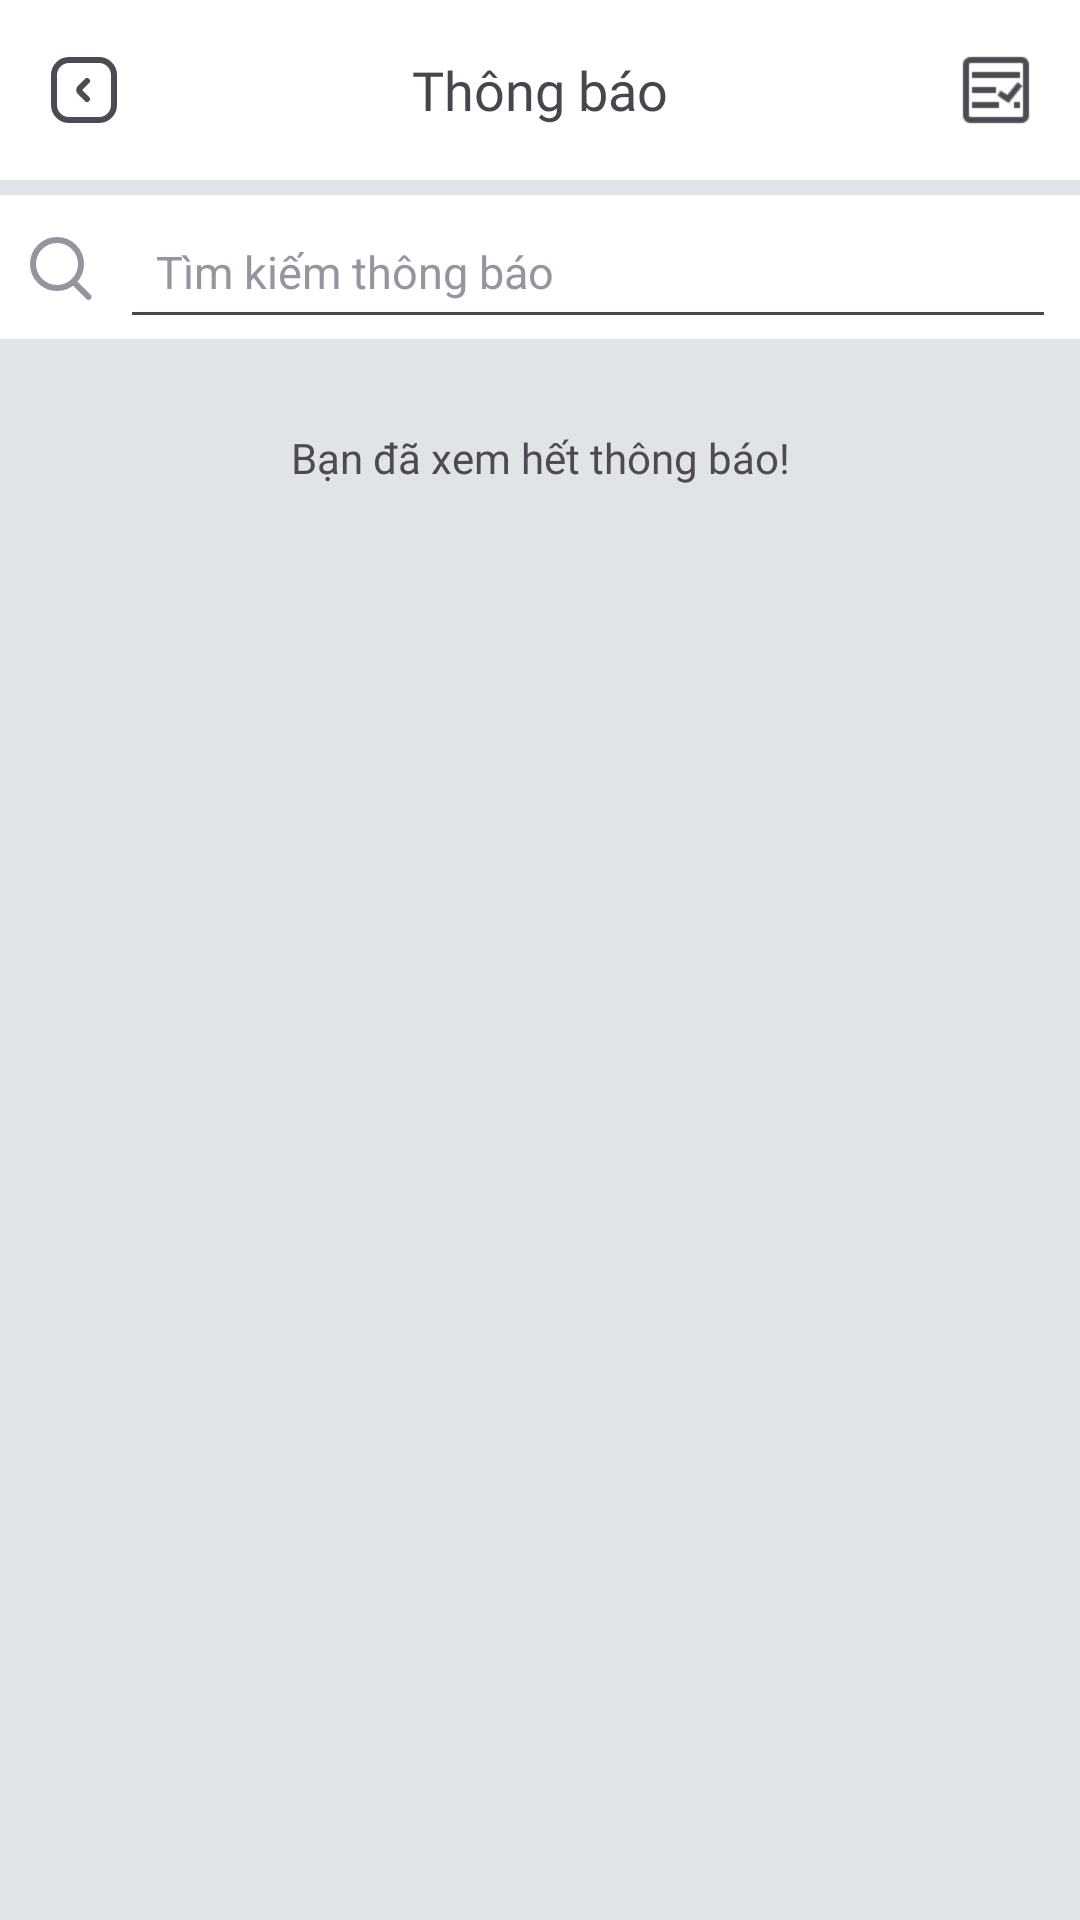

Point at icon controls on the screen. Image size 1080 x 1920, points as (x=x, y=y).
back: (x=84, y=90)
read: (x=996, y=90)
search: (x=61, y=268)
